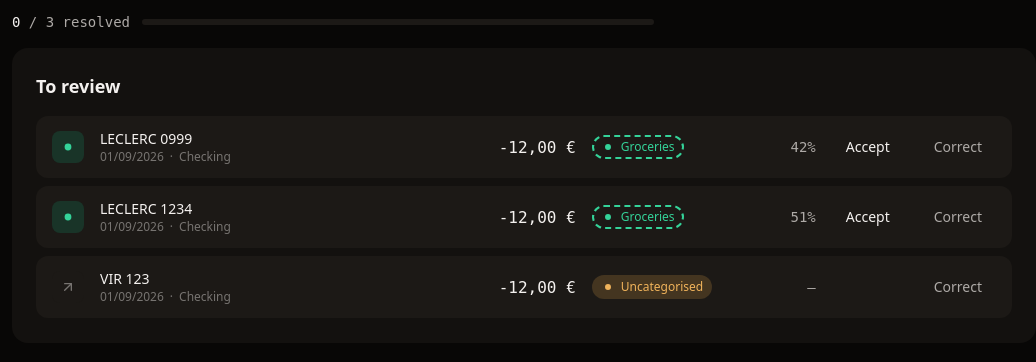
Test: Review mode › applying to others resolves the queued twin in place
Click the button "Accept" next to "42%" at (868, 147), box [832,128,904,166]
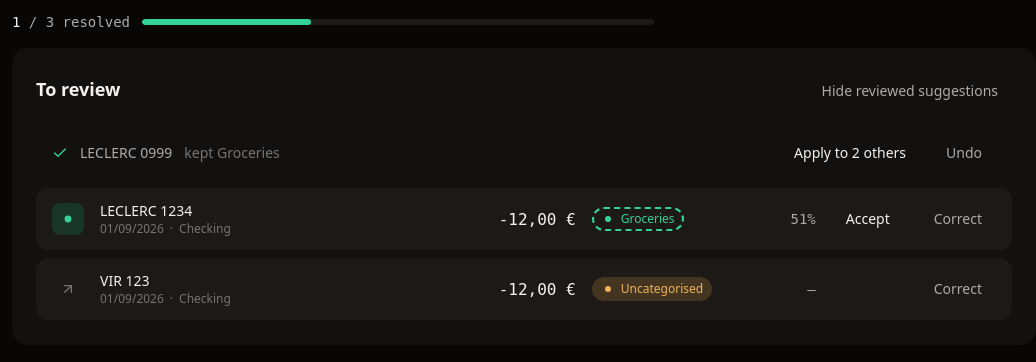
Click the button "Apply to 2 others" at (850, 153), box [780,134,920,172]
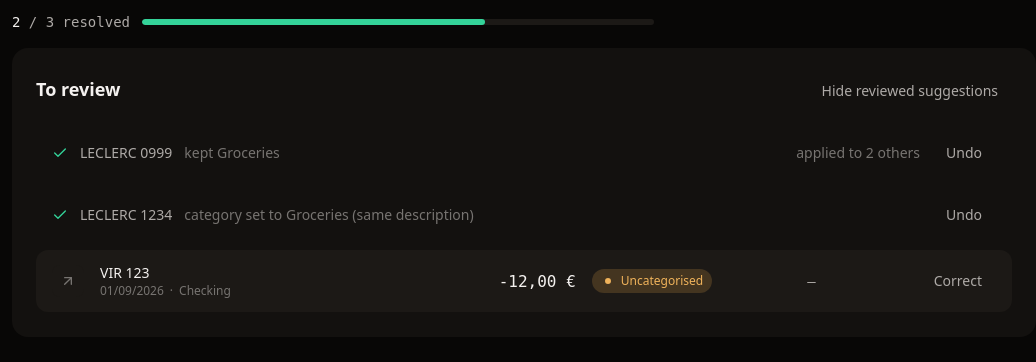
Expected: the text "applied to 2 others" is shown, [796,143,920,163]
Expected: the element with test id "resolved-line-t3" shows "category set to Groceries (same description)", [184,205,474,224]
Expected: the element with test id "review-progress" reads "2 / 3 resolved", [12,12,130,32]
